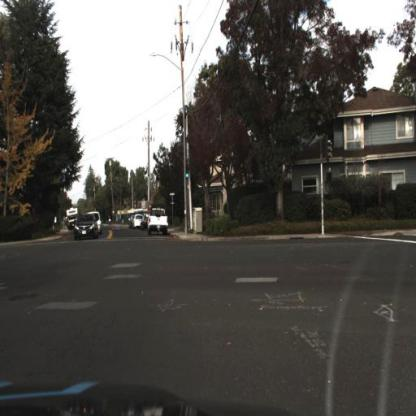car: (72, 211, 102, 247), (145, 208, 172, 243)
trafficLight-Green: (180, 163, 192, 194), (185, 157, 191, 184)
truck: (64, 205, 79, 227)
